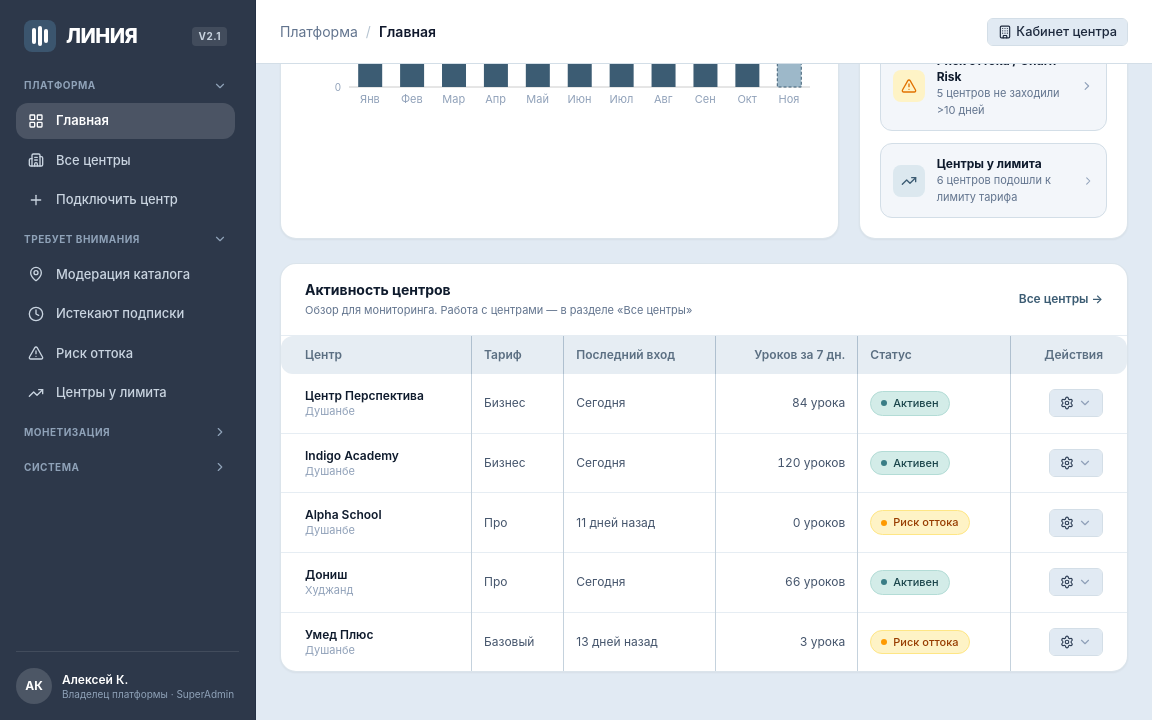
Scenario: главная платформы › меню строки: «Баланс и овердрафт…» открывает финансы центра
(page scrolled)
Click the button named "Действия: Дониш". click: click(1076, 582)
box: [1049,568,1103,596]
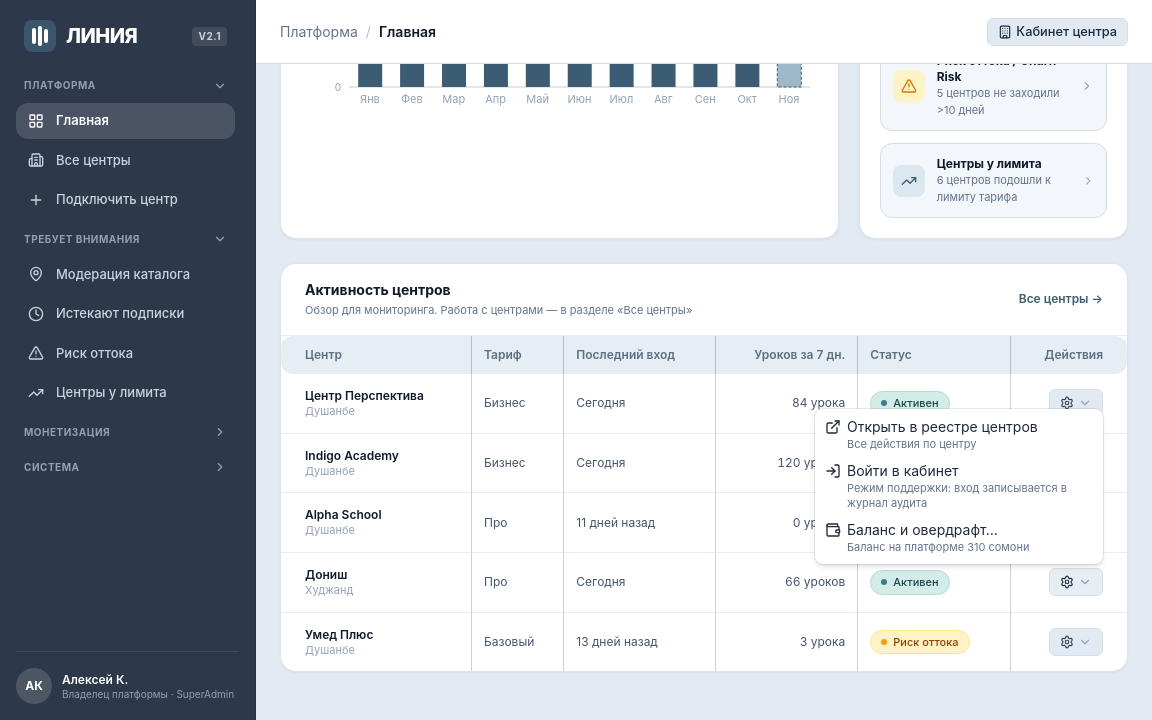
Click the menu item "Баланс и овердрафт… Баланс на платформе 310 сомони". click: click(927, 538)
box: [825,521,1029,554]
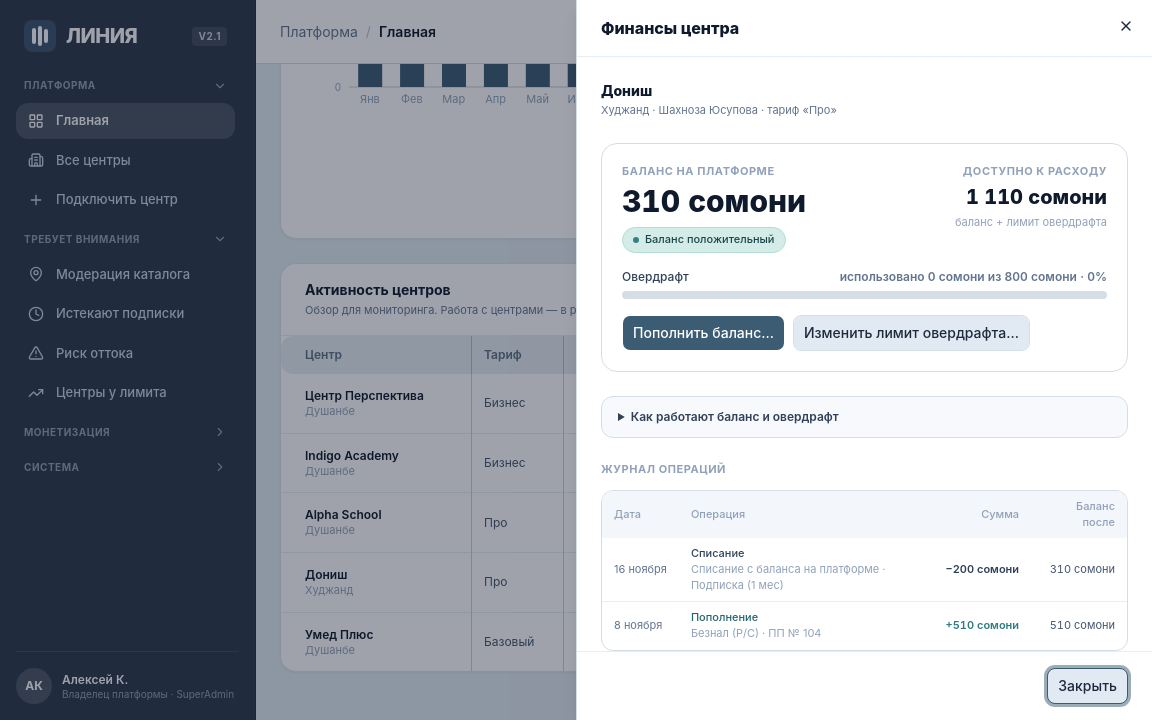
expect the element "Баланс на платформе" is shown: met, box [601,143,1128,372]
